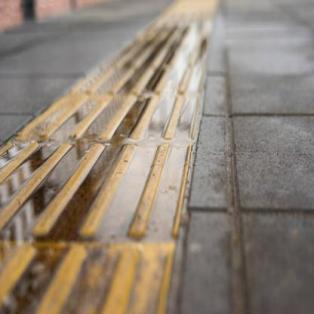Podoctatil: (0, 27, 214, 308)
